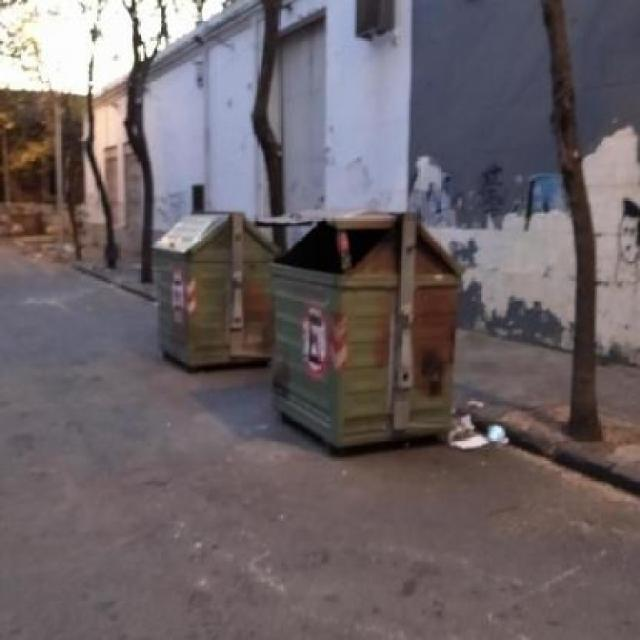garbage: (439, 408, 516, 456)
